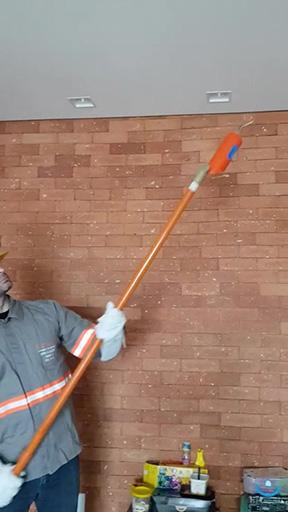Detector_Tensao_Contato: (205, 116, 256, 177)
Vara_Manobra: (9, 167, 210, 480)
